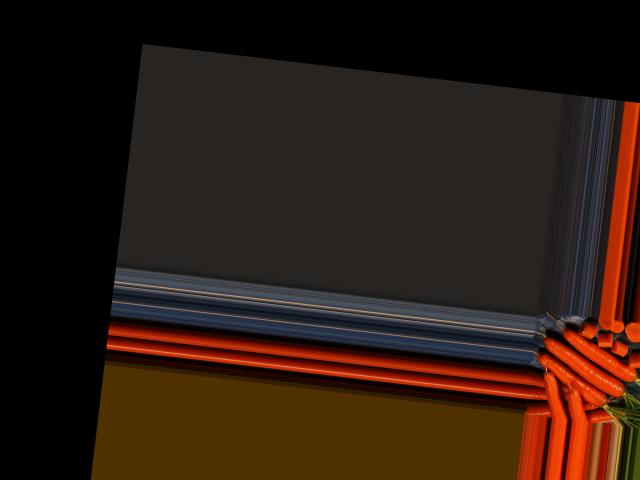carrot: (530, 352, 612, 409)
